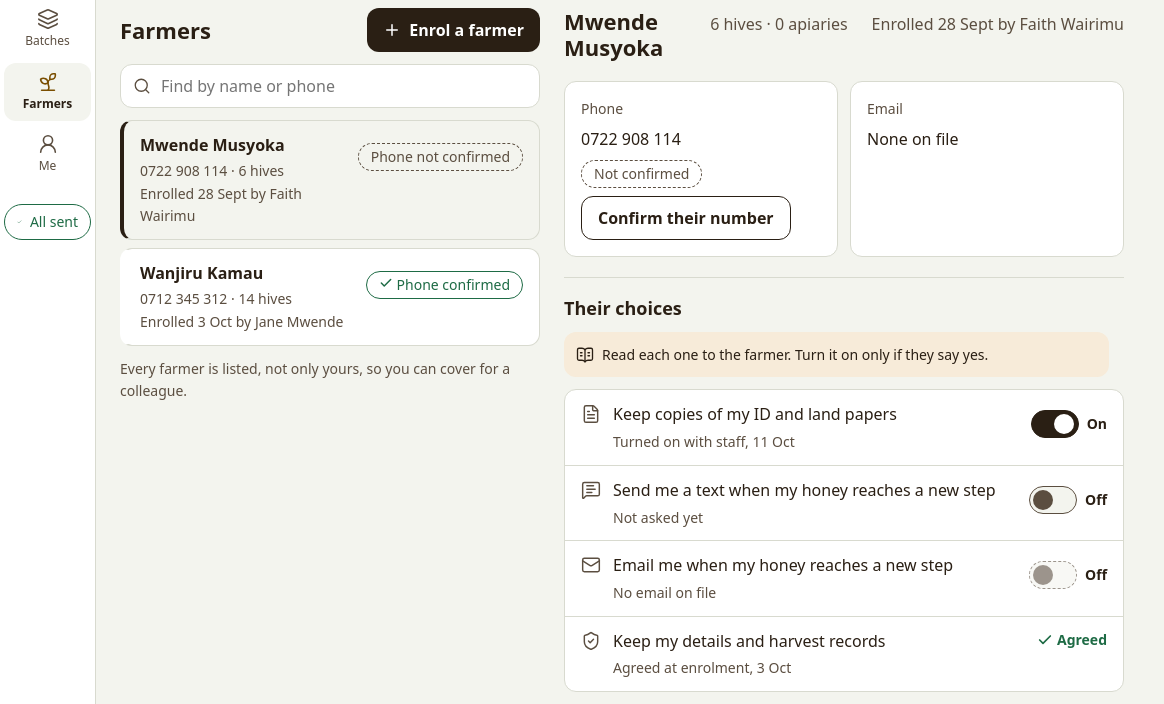
Test: Documents (D9: online only) › a withdrawal saved on this device closes upload at once
Click the switch named "Keep copies of my ID and land papers" next to "Keep copies of my ID and land papers": x=1055, y=424 top-left (1031, 402), bottom-right (1079, 446)
(page scrolled)
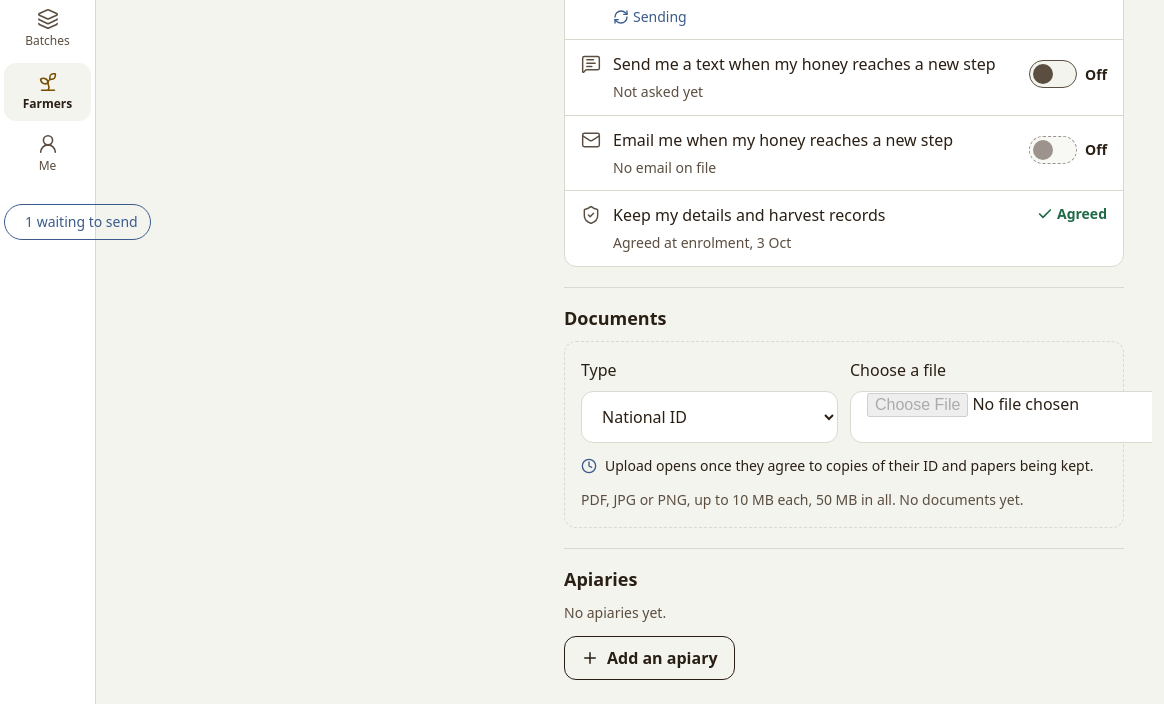
Now the text "Upload opens once they agree to copies of their ID and papers being kept." is shown, box top-left (581, 455), bottom-right (1107, 477)
